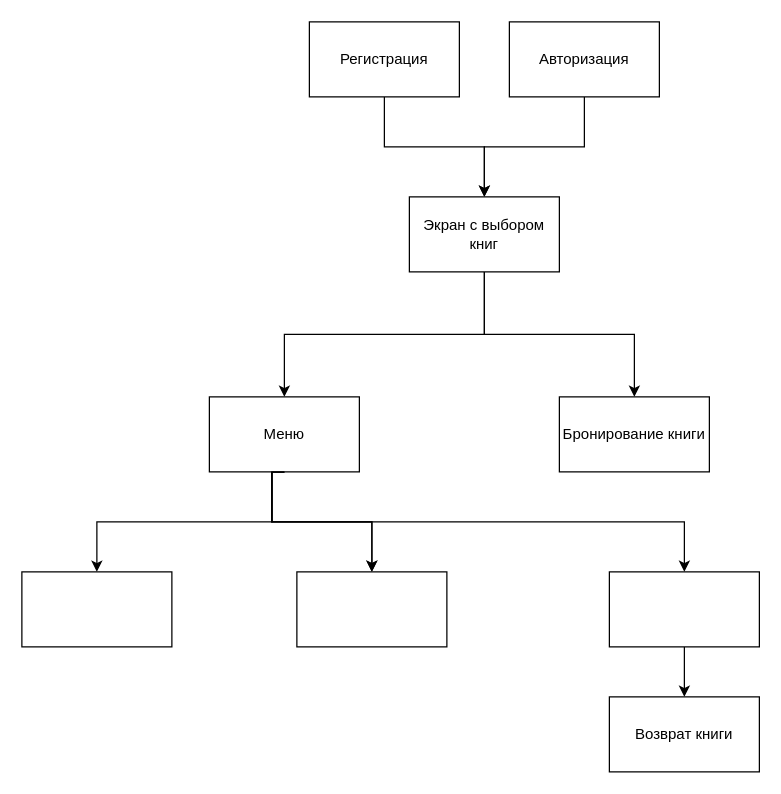
This 781x794 diagram has some shape labels left out. Here are the shapes that lost their labels. From the top down, the centre of each, then its label:
At point (96, 609): "Выход".
At point (371, 609): "Просмотр профиля".
At point (683, 609): "Просмотр совершённых бронирований".
